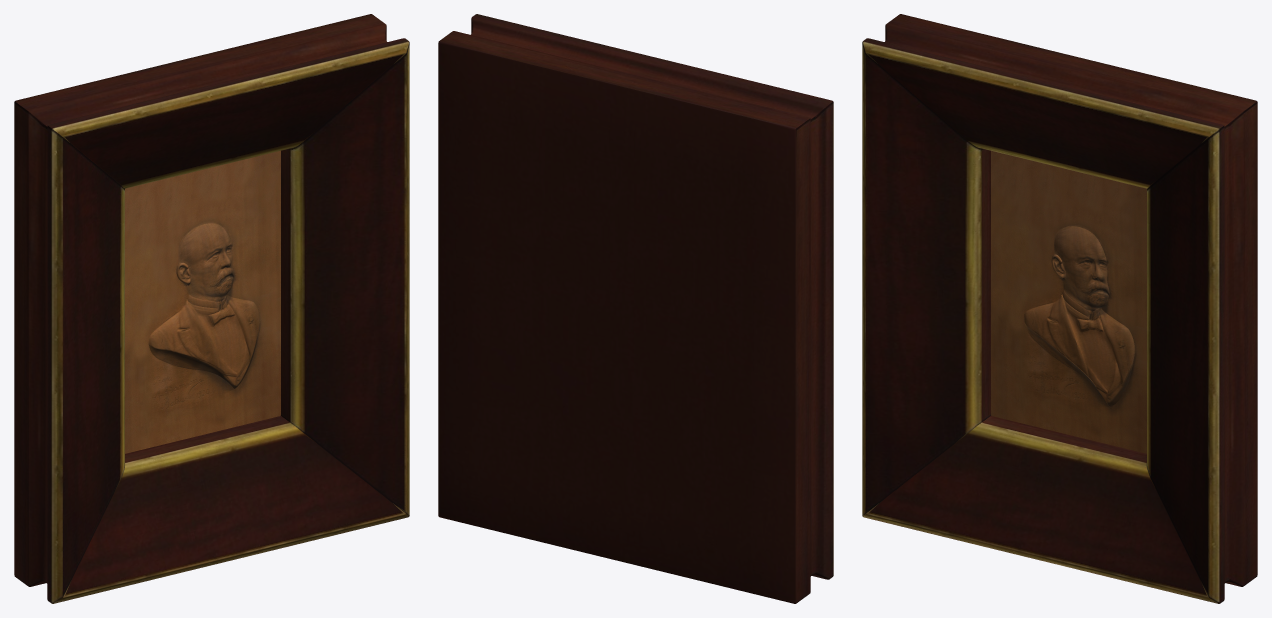
File: jaanposka-portreereljeef.glb
The picture shows the model from 3 angles, left to right: view 1: azimuth 30°, elevation 25°; view 2: azimuth 150°, elevation 25°; view 3: azimuth 330°, elevation 25°; orthographic projection.
Visible parts, largest first — view 1: model; view 2: model; view 3: model.
Boxes of the visible parts, box(x1,y1,x2,y2) form: model: box(14, 14, 409, 603); model: box(438, 14, 833, 603); model: box(862, 14, 1257, 603).
Bounding box in the file's own units: 1.69 × 2.14 × 0.3406.
1 material, 1 textured.
